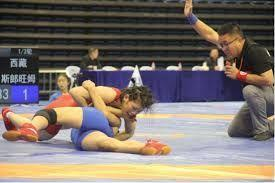Fall-Detected: (0, 80, 165, 154)
